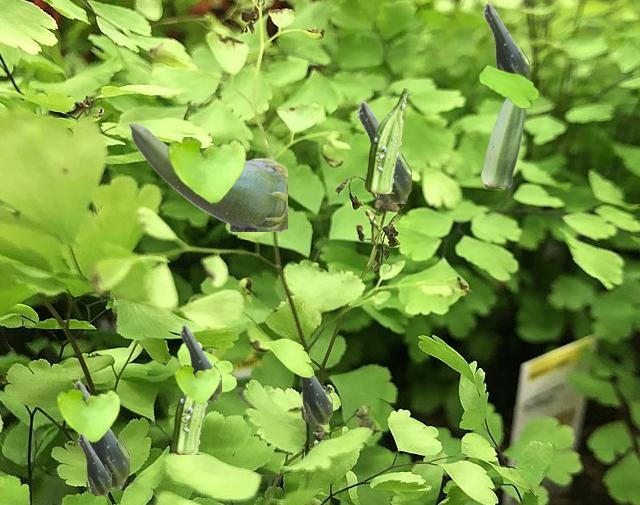okra: (128, 122, 286, 230), (71, 378, 128, 487), (356, 98, 410, 202), (171, 349, 213, 453), (365, 88, 407, 192), (481, 99, 525, 187), (482, 0, 528, 77), (179, 322, 220, 400), (77, 431, 110, 494), (300, 373, 331, 423)
